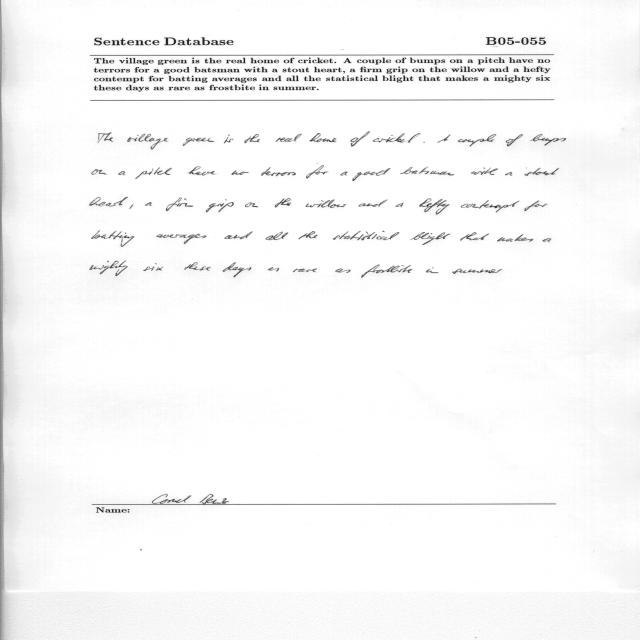word: (461, 200, 519, 213), (92, 230, 134, 247), (361, 264, 412, 278), (333, 231, 400, 241), (127, 134, 168, 150), (90, 261, 128, 276), (411, 232, 451, 245), (420, 198, 450, 215), (156, 234, 206, 244), (353, 168, 391, 181), (400, 167, 454, 176), (373, 133, 421, 143), (458, 134, 496, 146), (135, 167, 172, 179), (223, 263, 252, 278), (530, 134, 566, 146), (90, 197, 128, 207), (306, 199, 347, 208), (206, 199, 234, 212), (166, 198, 193, 211), (261, 167, 296, 176), (350, 132, 370, 147), (453, 268, 503, 274), (497, 234, 533, 242), (307, 166, 329, 179), (524, 168, 559, 176), (524, 201, 548, 212), (460, 232, 489, 241), (183, 138, 215, 146), (188, 167, 216, 176), (310, 133, 337, 142), (184, 262, 211, 271), (359, 199, 388, 207), (224, 232, 253, 240), (276, 134, 302, 142), (506, 135, 523, 147), (471, 168, 498, 175), (266, 232, 289, 240), (298, 231, 318, 240), (143, 263, 163, 271), (98, 132, 113, 142), (244, 134, 260, 143), (275, 198, 291, 207), (438, 135, 451, 143), (92, 169, 107, 175), (231, 170, 249, 175), (224, 135, 233, 144), (293, 269, 317, 272), (426, 267, 438, 273), (245, 203, 258, 208), (336, 269, 351, 273), (268, 268, 279, 272), (340, 171, 348, 176), (395, 203, 404, 207), (543, 238, 552, 242), (118, 171, 125, 175), (505, 172, 512, 176), (145, 202, 152, 206), (129, 205, 133, 209), (423, 142, 425, 143)
